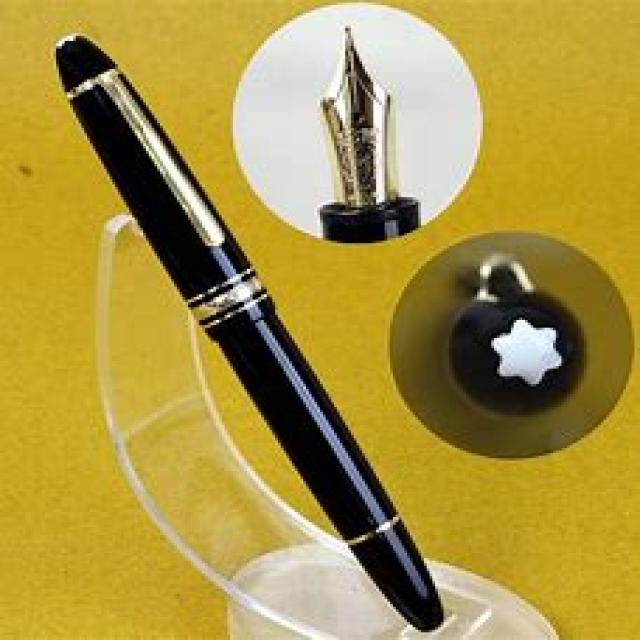pen: (45, 32, 447, 630)
